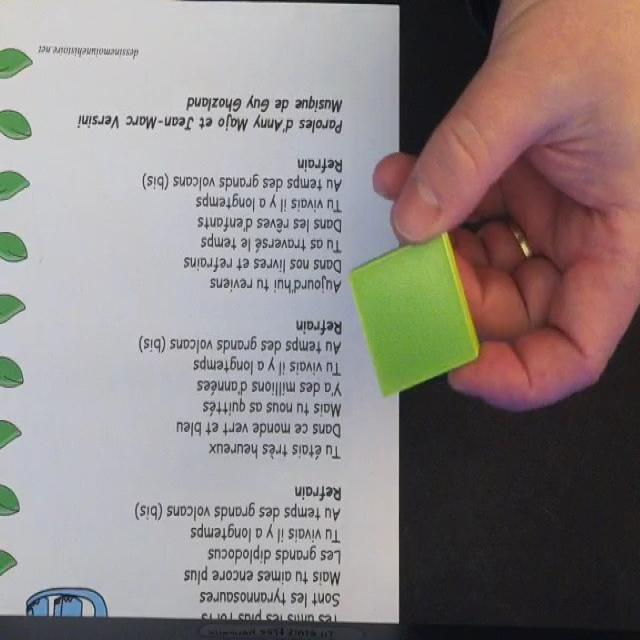square: (350, 230, 480, 397)
